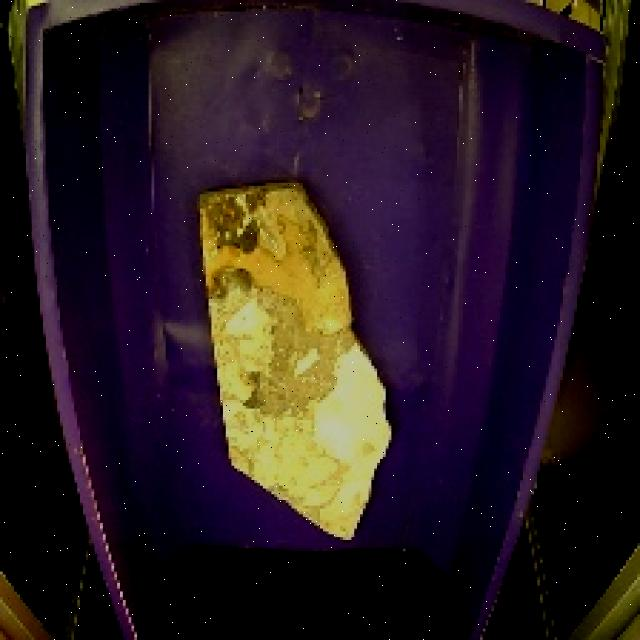china: (191, 172, 399, 551)
